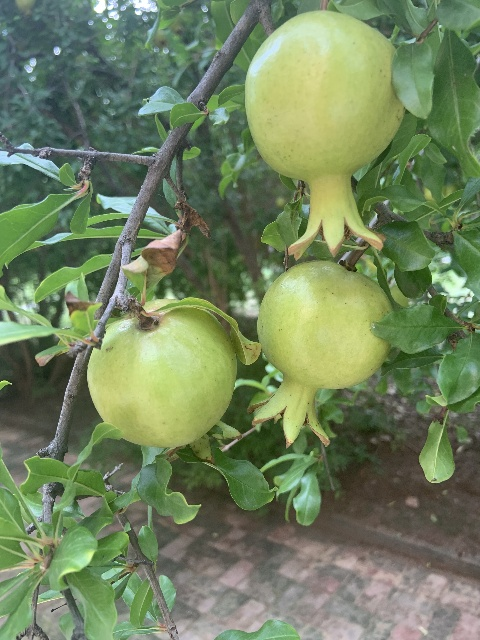mid-growth: (244, 10, 405, 260), (246, 260, 392, 447), (86, 298, 242, 466)
